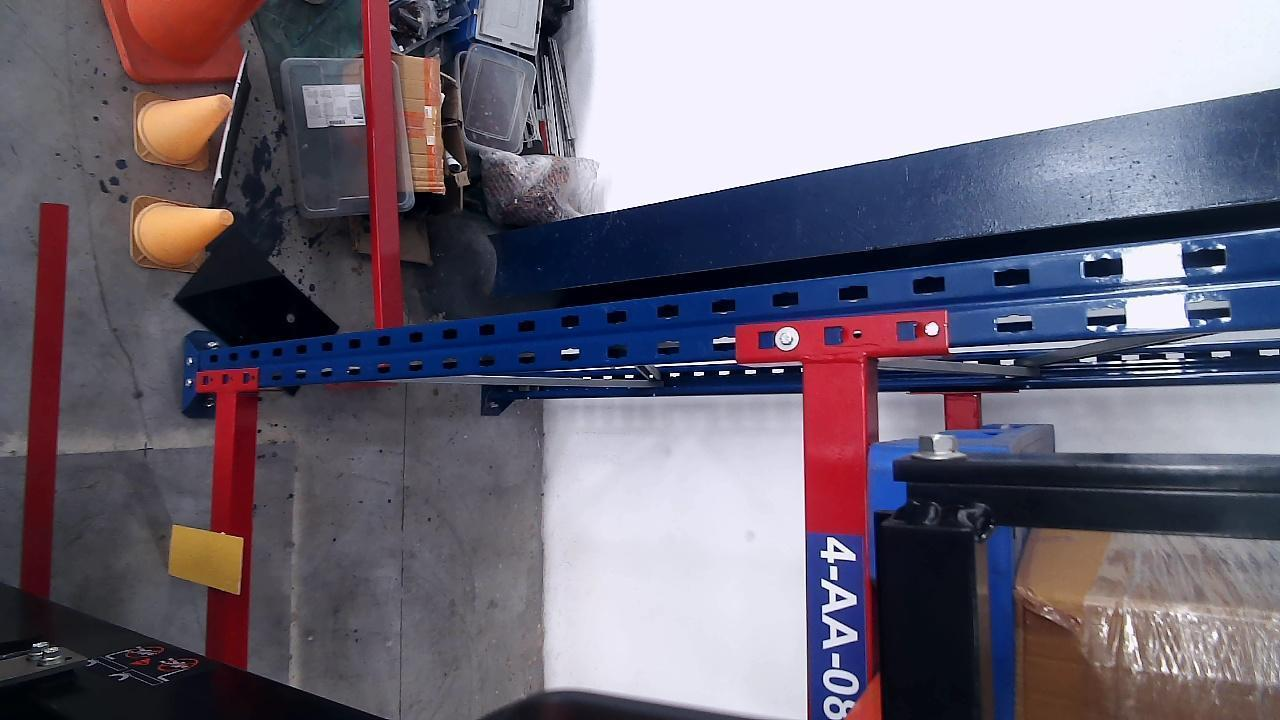red_line: (22, 205, 69, 599)
